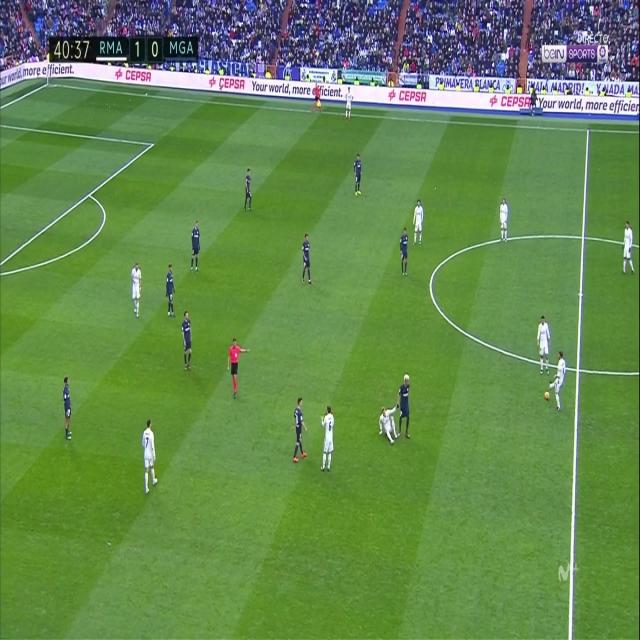Ball: (544, 388, 551, 402)
Player: (141, 416, 159, 498), (292, 395, 310, 467), (549, 348, 567, 416), (319, 407, 336, 476), (61, 372, 77, 443), (398, 372, 414, 442), (536, 314, 552, 378), (378, 402, 399, 448), (622, 220, 636, 279), (181, 309, 194, 372), (130, 261, 143, 321), (412, 193, 426, 243), (165, 264, 177, 322), (190, 219, 202, 275), (300, 232, 312, 285), (397, 226, 409, 279), (497, 195, 510, 242), (352, 151, 363, 203), (244, 164, 254, 215), (344, 85, 354, 124)
Referee: (226, 336, 252, 408), (312, 80, 323, 120)
